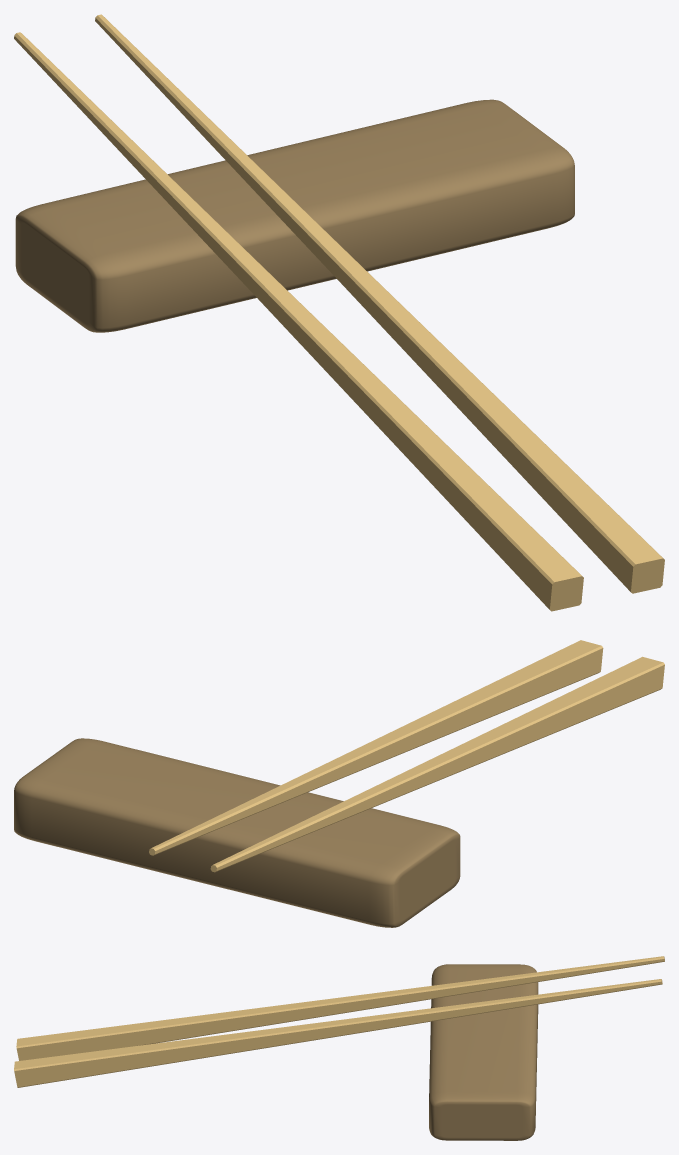
The model's file is SM_Chopsticks_low.fbx.
3 views of the same model, one above another, from view 1: azimuth 30°, elevation 25°; view 2: azimuth 150°, elevation 25°; view 3: azimuth 270°, elevation 25° (orthographic). The views are drawn at different scales.
Parts seen in each view (by area): view 1: Chopstick_Holder_low, Chopstick1_low, Chopstick2_low; view 2: Chopstick_Holder_low, Chopstick1_low, Chopstick2_low; view 3: Chopstick_Holder_low, Chopstick2_low, Chopstick1_low.
Boxes of the visible parts, left/top/right/bottom form: Chopstick_Holder_low: left=15, top=99, right=574, bottom=332; Chopstick1_low: left=14, top=32, right=583, bottom=611; Chopstick2_low: left=95, top=14, right=664, bottom=593; Chopstick_Holder_low: left=14, top=738, right=460, bottom=927; Chopstick1_low: left=210, top=656, right=664, bottom=872; Chopstick2_low: left=149, top=640, right=603, bottom=855; Chopstick_Holder_low: left=429, top=964, right=538, bottom=1140; Chopstick2_low: left=14, top=979, right=662, bottom=1087; Chopstick1_low: left=16, top=956, right=664, bottom=1060.
Bounding box in the file's own units: 93.83 × 33.15 × 187.
